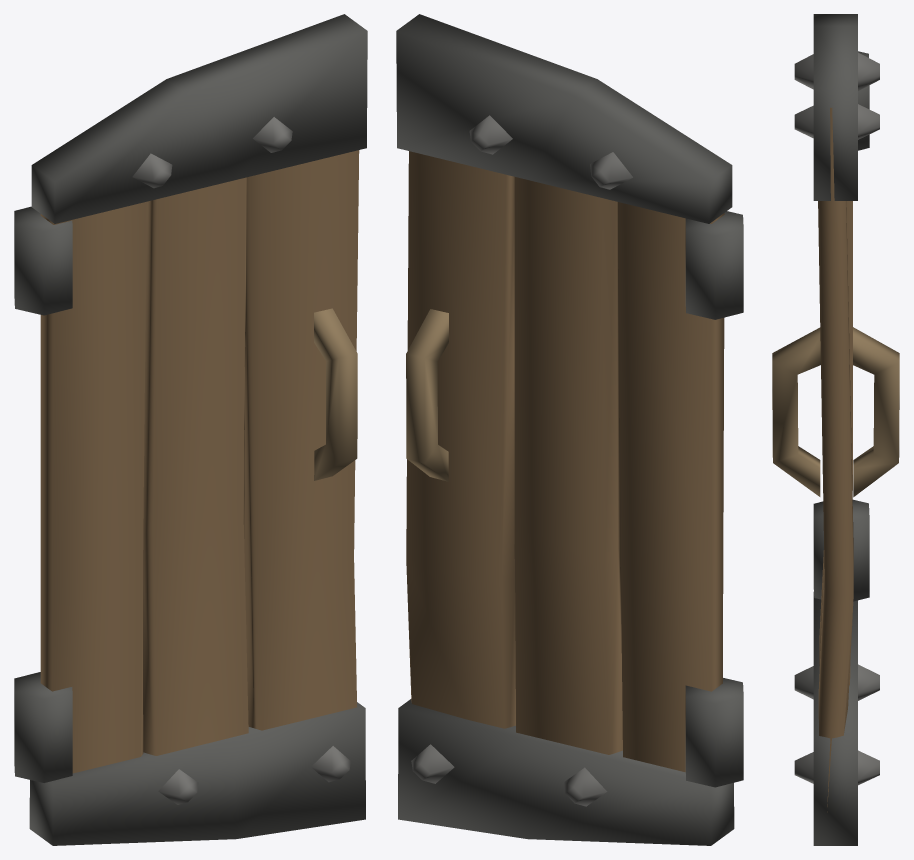
File: rpgpp_ag_door_05_left.fbx
3 renders of one model, left to right at view 1: azimuth 30°, elevation 25°; view 2: azimuth 150°, elevation 25°; view 3: azimuth 270°, elevation 25°, orthographic. The views are drawn at different scales.
Parts seen in each view (by area): view 1: rpgpp_ag_door_05_left; view 2: rpgpp_ag_door_05_left; view 3: rpgpp_ag_door_05_left.
Part boxes in pixels (x1,y1,x2,y2): rpgpp_ag_door_05_left: (14, 14, 367, 845); rpgpp_ag_door_05_left: (396, 14, 743, 845); rpgpp_ag_door_05_left: (772, 14, 899, 845).
Bounding box in the file's own units: 1.02 × 2.26 × 0.3445.
